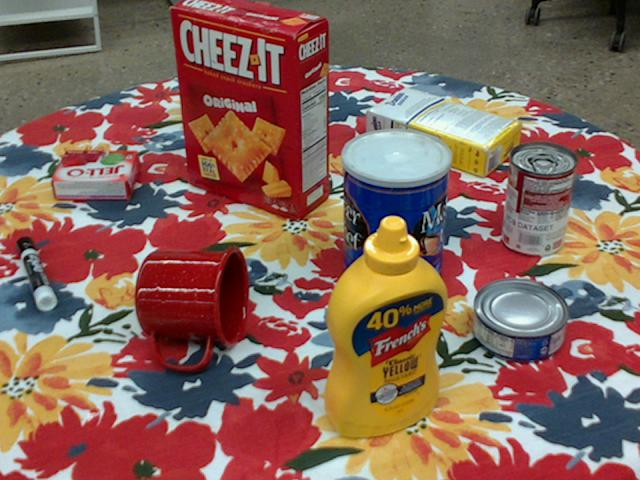cracker_box: (171, 0, 330, 215)
gelatin_box: (51, 150, 140, 200)
large_marker: (16, 235, 55, 310)
master_chef_can: (341, 129, 450, 305)
mug: (134, 247, 247, 371)
mustard_bottle: (323, 216, 445, 438)
potted_meat_can: (180, 52, 261, 133)
sugar_box: (365, 85, 522, 178)
tomato_soup_can: (501, 141, 576, 256)
tuna_fish_can: (470, 279, 567, 363)
